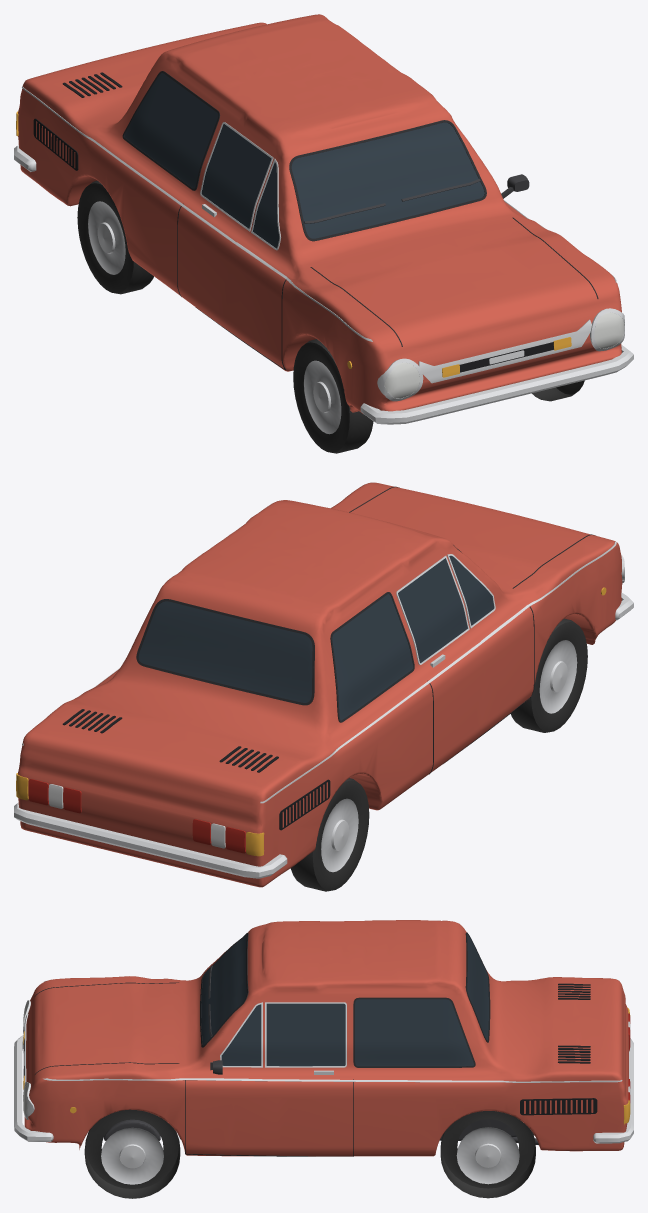
File: zaz968.glb
3 views of the same model, one above another, from view 1: azimuth 30°, elevation 25°; view 2: azimuth 150°, elevation 25°; view 3: azimuth 270°, elevation 25° (orthographic). The views are drawn at different scales.
Parts seen in each view (by area): view 1: paint, glass, trim, wheel_fr, wheel_rr, headlights; view 2: paint, glass, trim, wheel_fr, wheel_rr, taillights, reverse_lights; view 3: paint, glass, trim, wheel_fl, wheel_rl.
Boxes of the visible parts, x1=… form: paint: x1=18, y1=14, x2=621, y2=413; glass: x1=124, y1=73, x2=484, y2=248; trim: x1=14, y1=71, x2=633, y2=424; wheel_fr: x1=293, y1=339, x2=373, y2=453; wheel_rr: x1=77, y1=180, x2=153, y2=294; headlights: x1=384, y1=312, x2=624, y2=398; paint: x1=18, y1=482, x2=622, y2=887; glass: x1=138, y1=555, x2=494, y2=720; trim: x1=14, y1=482, x2=633, y2=878; wheel_fr: x1=511, y1=618, x2=587, y2=732; wheel_rr: x1=290, y1=778, x2=369, y2=891; taillights: x1=28, y1=779, x2=245, y2=853; reverse_lights: x1=48, y1=784, x2=225, y2=848; paint: x1=24, y1=920, x2=628, y2=1156; glass: x1=201, y1=934, x2=488, y2=1066; trim: x1=14, y1=932, x2=633, y2=1156; wheel_fl: x1=84, y1=1109, x2=180, y2=1198; wheel_rl: x1=440, y1=1111, x2=535, y2=1198.
Size of the model in its own units: 1.55 by 1.37 by 3.76.
